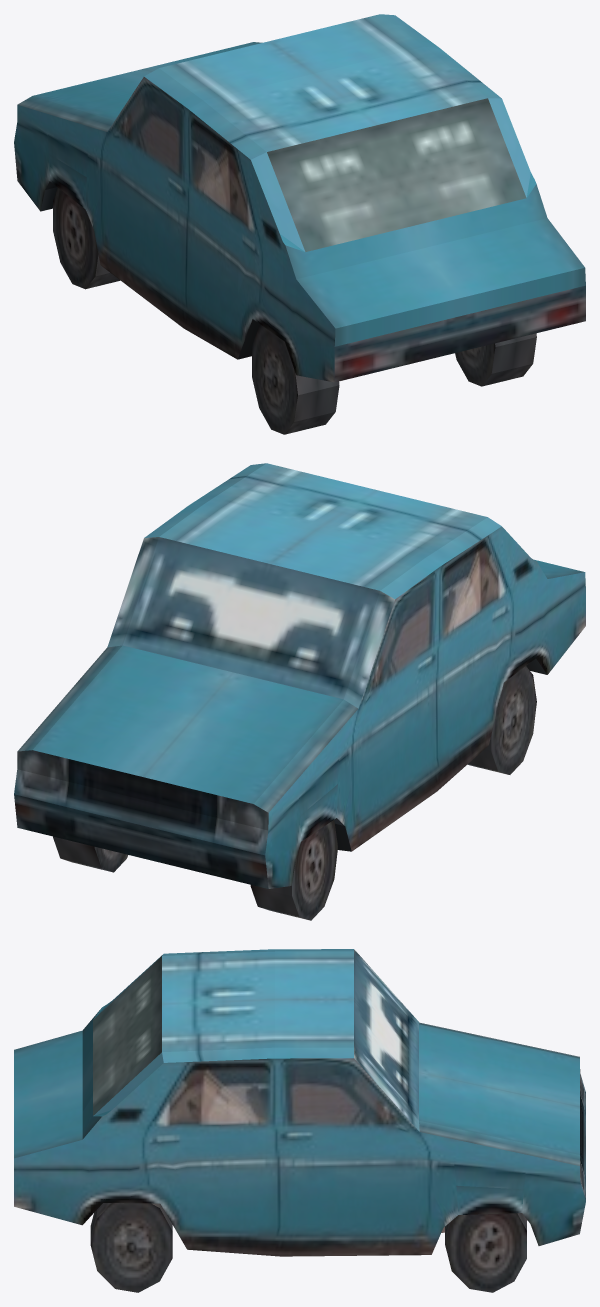
The model's file is Auto2.fbx.
The picture shows the model from 3 angles, top to bottom: view 1: azimuth 30°, elevation 25°; view 2: azimuth 150°, elevation 25°; view 3: azimuth 270°, elevation 25°; orthographic projection. The views are drawn at different scales.
Parts seen in each view (by area): view 1: Car; view 2: Car; view 3: Car.
Boxes of the visible parts, x1,y1,x2,y2 form: Car: [14, 14, 585, 434]; Car: [14, 463, 585, 920]; Car: [14, 949, 585, 1292].
Size of the model in its own units: 1.43 by 3.13 by 1.46.
1 material, 1 textured.
